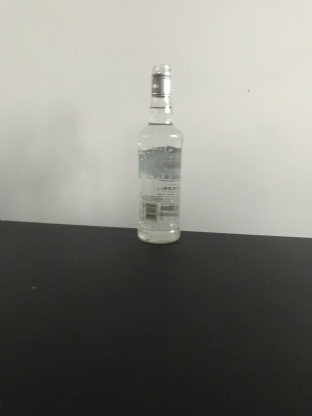nakretka: (149, 61, 173, 100)
